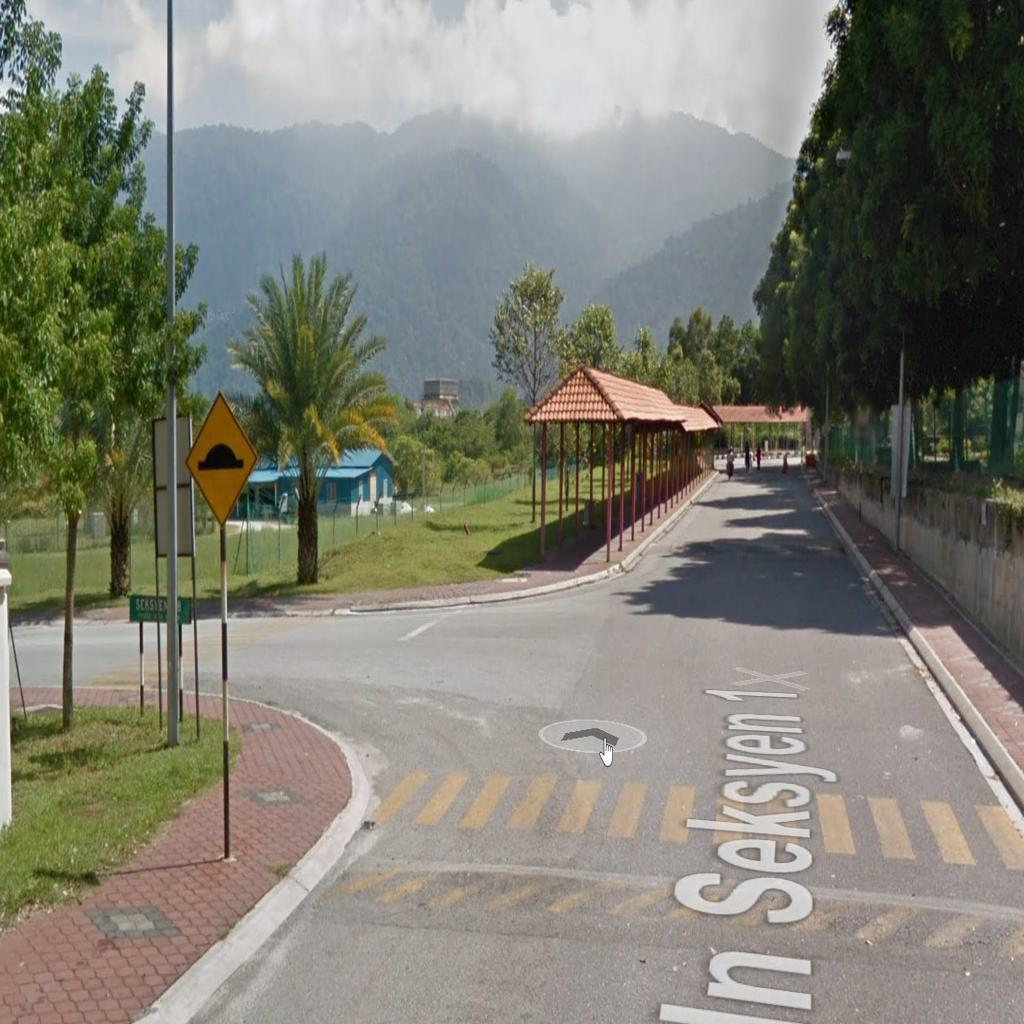Junction: (51, 574, 610, 797)
